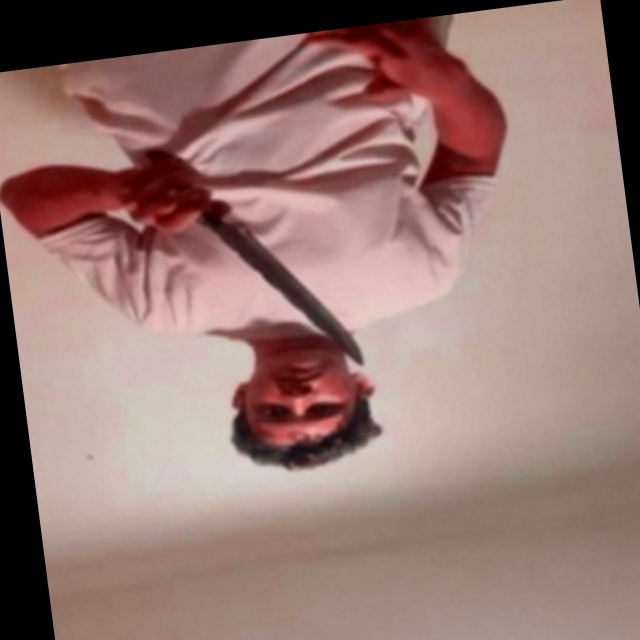Sharp-Object: (213, 209, 362, 378)
